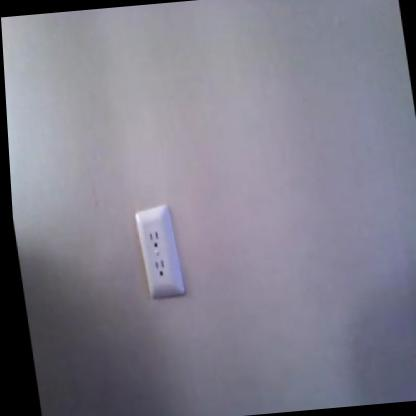OUTLET: (133, 205, 187, 300)
